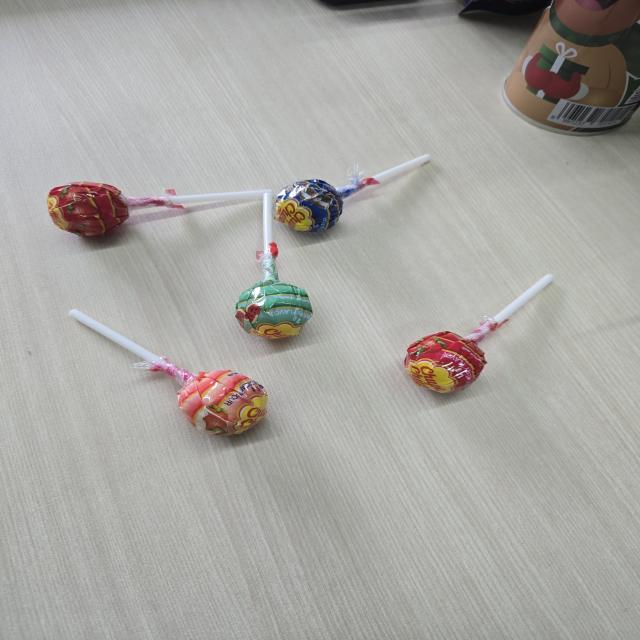lollipop: (65, 301, 272, 444), (402, 266, 557, 402), (43, 178, 278, 246), (272, 153, 435, 243), (232, 193, 316, 349)
